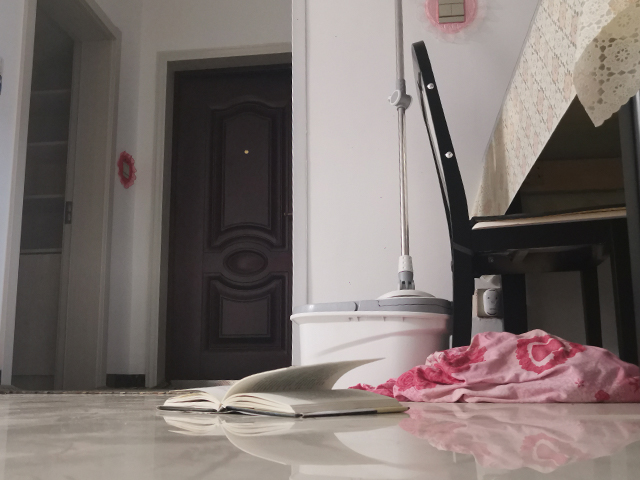book: (155, 355, 413, 420)
carpet: (1, 385, 204, 396)
stool: (409, 39, 636, 366)
table: (469, 1, 640, 371)
